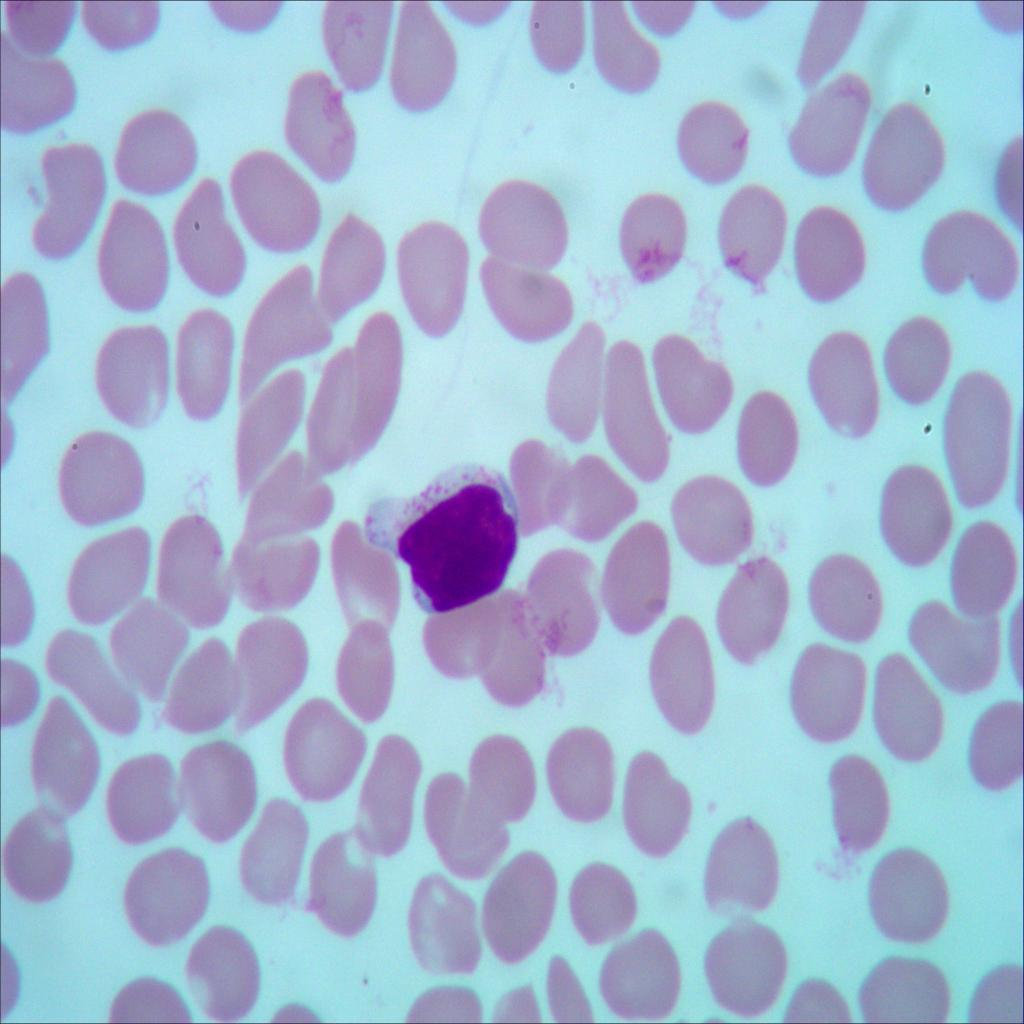Limfosit: (367, 453, 522, 613)
